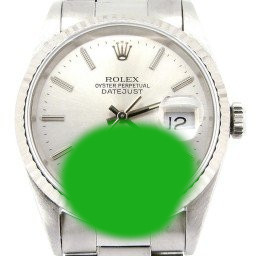focus: (48, 110, 201, 242)
